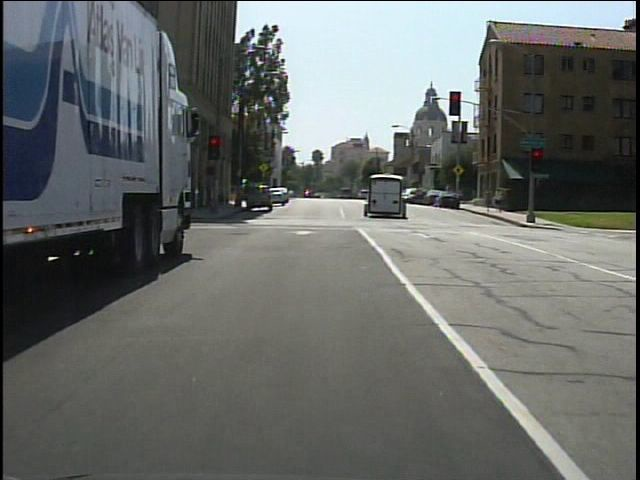person: (492, 187, 506, 215), (481, 187, 494, 216)
